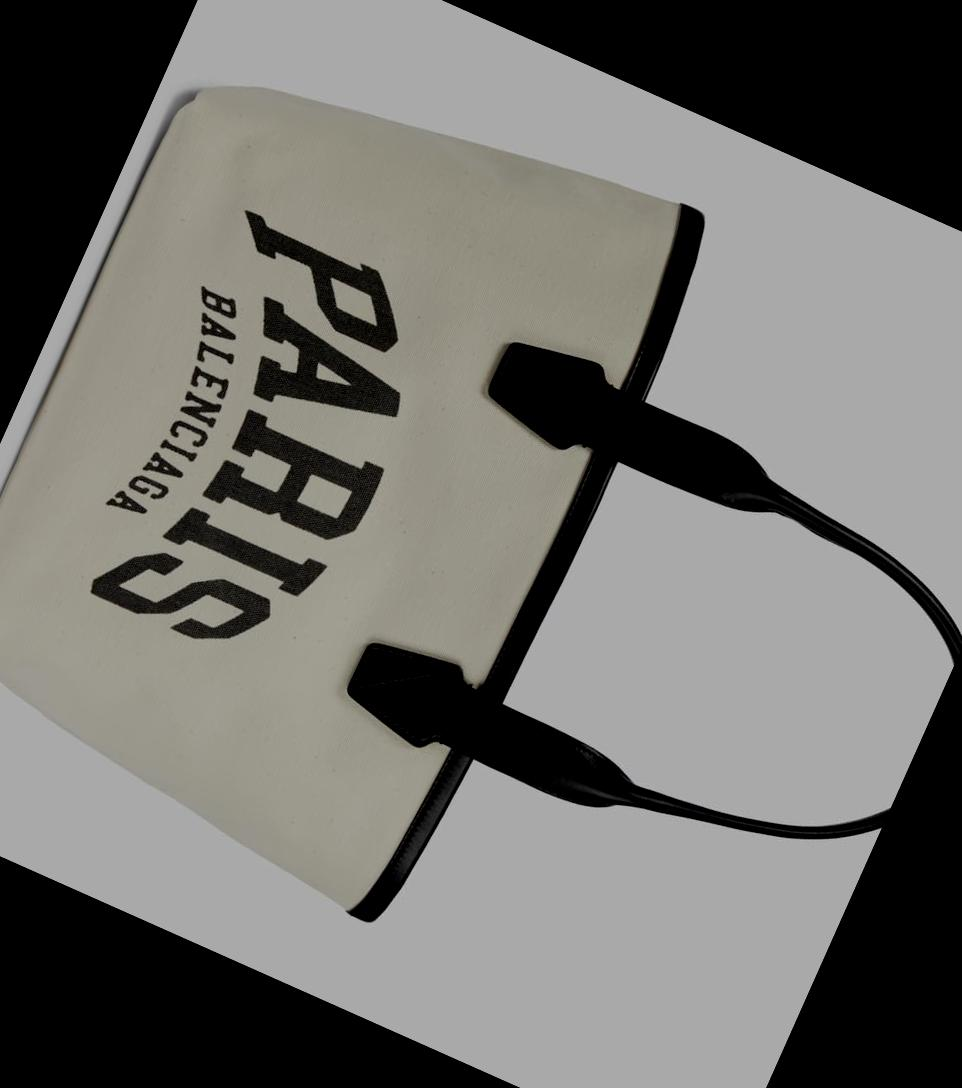BALENCIAGA: (102, 284, 264, 532)
